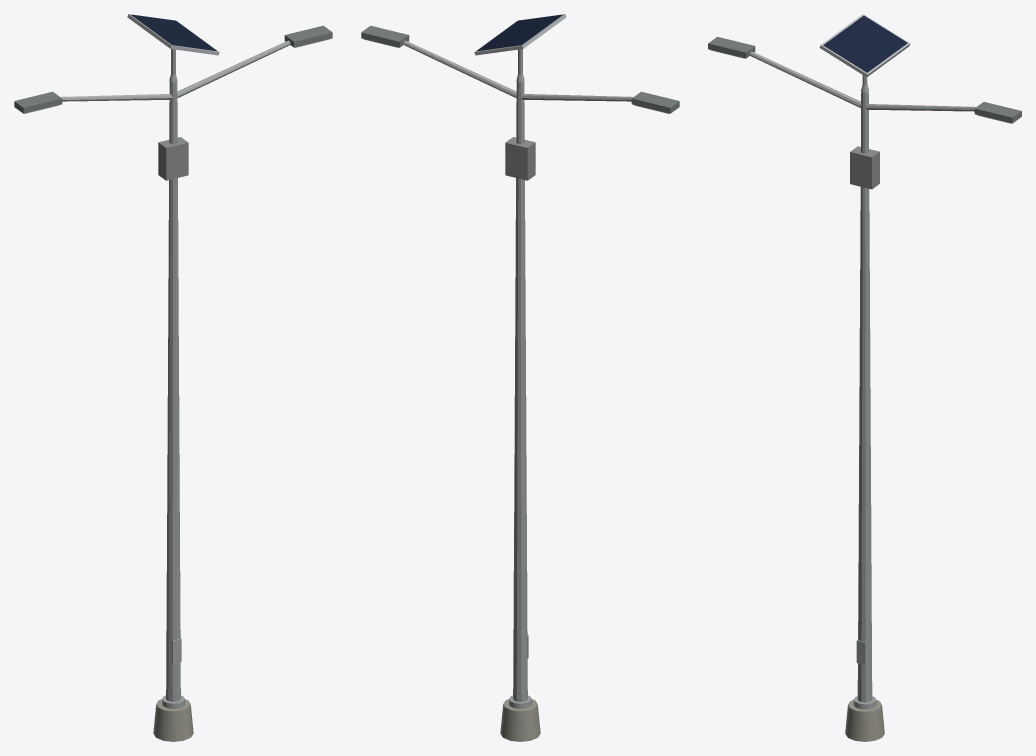
Rendered from street_lamp_double_solar_ew.glb.
3 views of the same model, side by side, from view 1: azimuth 30°, elevation 25°; view 2: azimuth 150°, elevation 25°; view 3: azimuth 330°, elevation 25° (orthographic).
Parts seen in each view (by area): view 1: street_lamp_double_solar_ew; view 2: street_lamp_double_solar_ew; view 3: street_lamp_double_solar_ew.
Part boxes in pixels (x1,y1,x2,y2): street_lamp_double_solar_ew: (14, 14, 332, 741); street_lamp_double_solar_ew: (361, 14, 679, 741); street_lamp_double_solar_ew: (708, 14, 1021, 741).
Size of the model in its own units: 4.96 by 10.86 by 1.2.
Materials: 2 (1 with a texture image).
